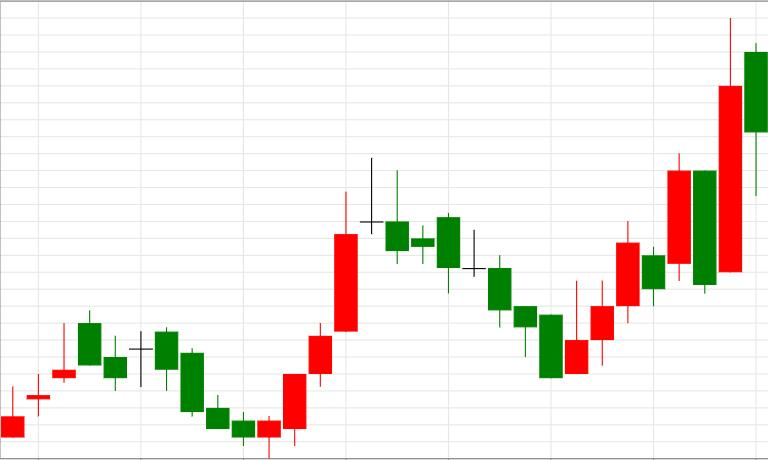evening_star_fall: (258, 158, 409, 458)
